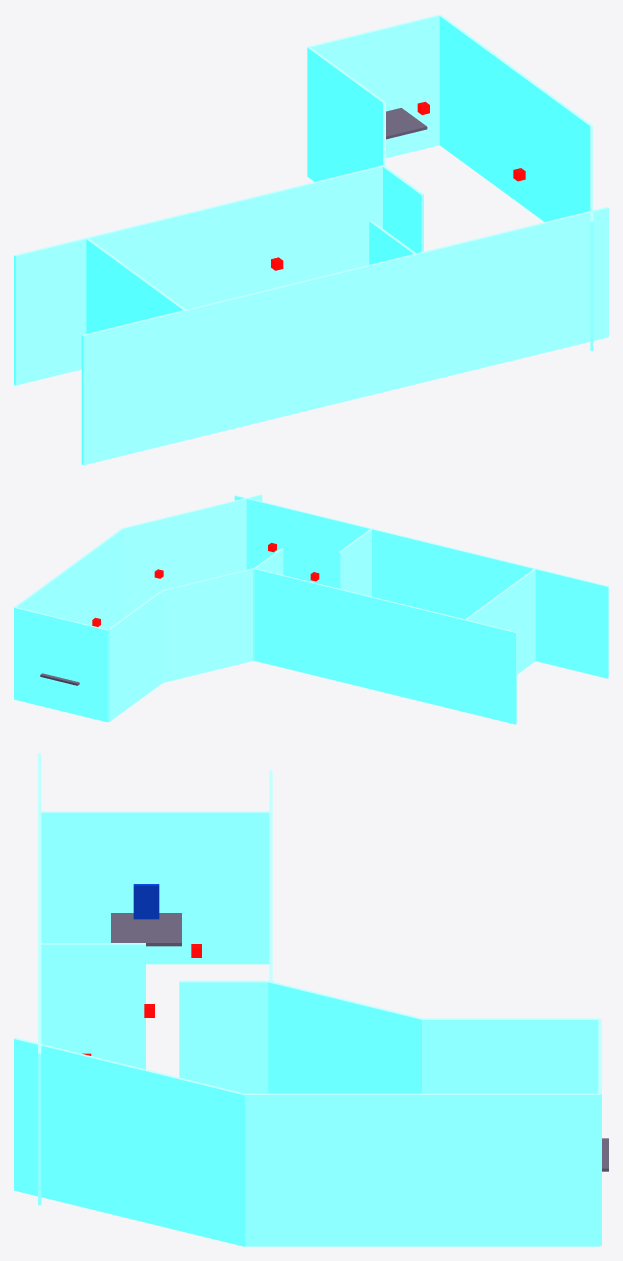
File: level5FBX.fbx
3 renders of one model, top to bottom at view 1: azimuth 30°, elevation 25°; view 2: azimuth 150°, elevation 25°; view 3: azimuth 270°, elevation 25°, orthographic. The views are drawn at different scales.
Visible parts, largest first — view 1: Cube_5__1_, Cube_5__2_, Cube_5__5_, Cube_5__8_, Cube_5, Cube_5__9_, Cube_5__3_, Cube_5__4_, Cube_5__7_, Cube__2_; view 2: Cube_5__2_, Cube_5__1_, Cube_5__7_, Cube_5__8_, Cube_5__6_, Cube_5__5_, Cube_5, Cube_5__9_, Cube_5__4_, Cube_5__3_; view 3: Cube_5__5_, Cube_5__7_, Cube_5__9_, Cube_5__6_, Cube_5, Cube_5__4_, Cube_5__3_, Cube__1_, Cube_5__1_, nextLevel, Cube_5__2_.
Boxes of the visible parts, bbox=[...] form: Cube_5__1_: bbox=[81, 207, 608, 465]; Cube_5__2_: bbox=[14, 165, 384, 385]; Cube_5__5_: bbox=[439, 14, 591, 221]; Cube_5__8_: bbox=[308, 14, 440, 158]; Cube_5: bbox=[307, 47, 385, 181]; Cube_5__9_: bbox=[86, 238, 185, 333]; Cube_5__3_: bbox=[381, 164, 423, 253]; Cube_5__4_: bbox=[369, 221, 416, 264]; Cube_5__7_: bbox=[590, 125, 593, 350]; Cube__2_: bbox=[386, 108, 427, 139]; Cube_5__2_: bbox=[254, 568, 516, 724]; Cube_5__1_: bbox=[234, 495, 608, 678]; Cube_5__7_: bbox=[121, 494, 262, 617]; Cube_5__8_: bbox=[14, 607, 108, 722]; Cube_5__6_: bbox=[161, 568, 253, 682]; Cube_5__5_: bbox=[14, 528, 123, 698]; Cube_5: bbox=[108, 590, 162, 721]; Cube_5__9_: bbox=[465, 568, 535, 674]; Cube_5__4_: bbox=[338, 529, 371, 596]; Cube_5__3_: bbox=[253, 548, 283, 661]; Cube_5__5_: bbox=[244, 1093, 599, 1246]; Cube_5__7_: bbox=[14, 1038, 245, 1246]; Cube_5__9_: bbox=[39, 811, 269, 964]; Cube_5__6_: bbox=[268, 982, 423, 1093]; Cube_5: bbox=[422, 1018, 599, 1093]; Cube_5__4_: bbox=[40, 943, 145, 1069]; Cube_5__3_: bbox=[179, 980, 273, 1093]; Cube__1_: bbox=[111, 913, 181, 946]; Cube_5__1_: bbox=[38, 753, 41, 1205]; nextLevel: bbox=[133, 884, 159, 919]; Cube_5__2_: bbox=[269, 770, 272, 981].
Size of what is drawn, in the model's own units: 22768 by 4702 by 16723.
